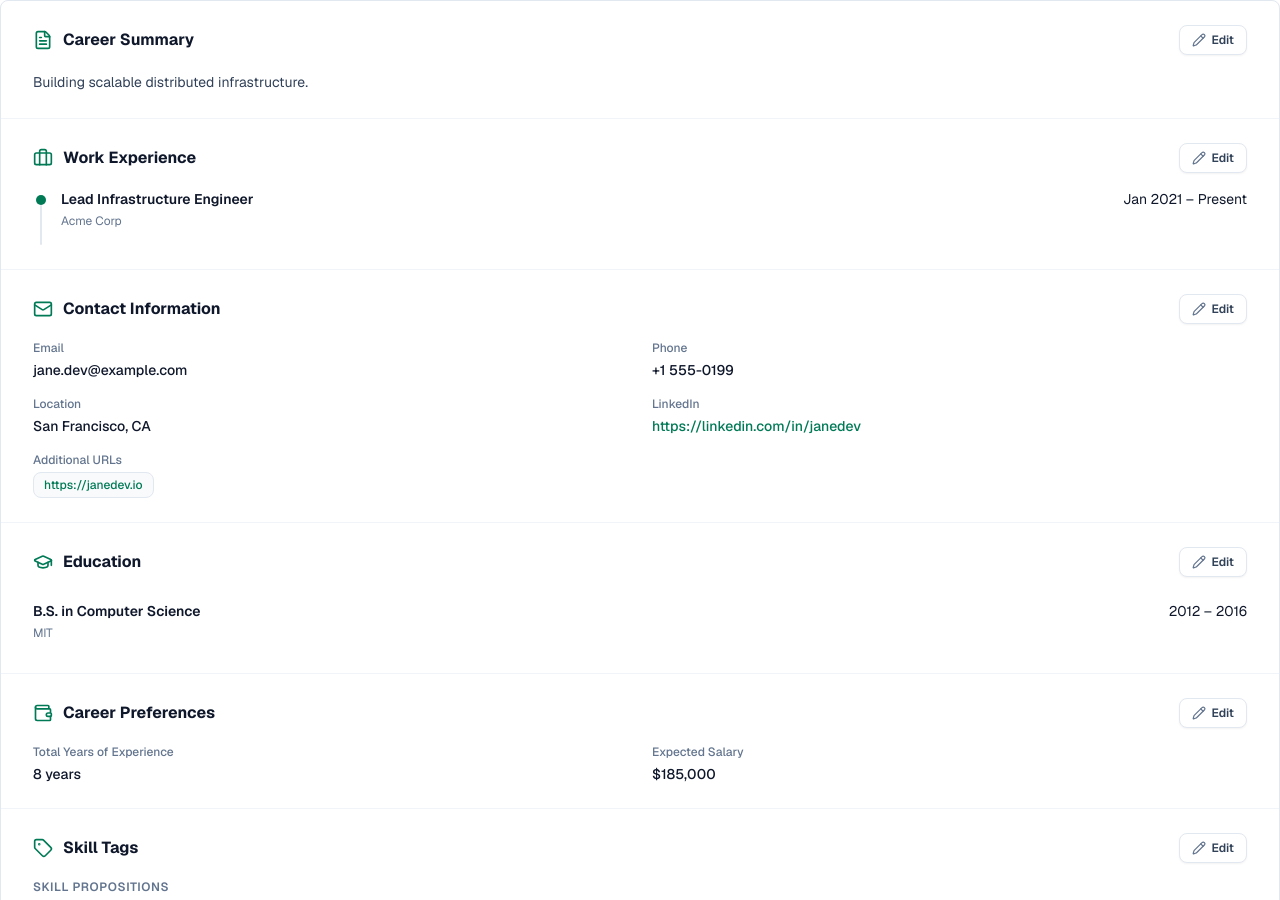
it: OverviewTabContent › opens EditContactInfoDialog when clicking Edit on Contact Information
The width and height of the screenshot is (1280, 900).
Click the button with aria-label "Edit Contact Information": coordinates (1213, 309) [1179,294,1247,324]
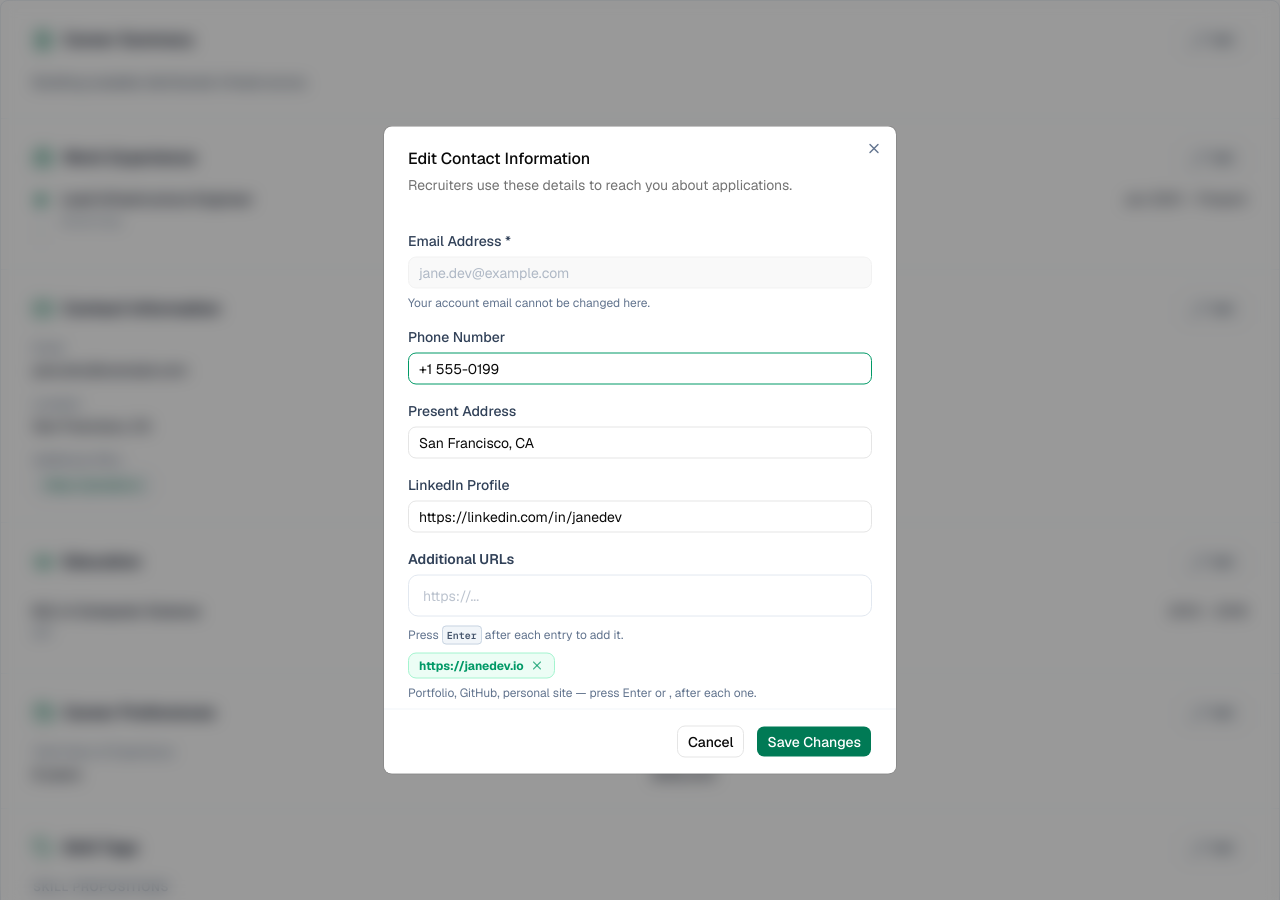
Check: the heading "Edit Contact Information" is shown, box [408,148,590,168]
